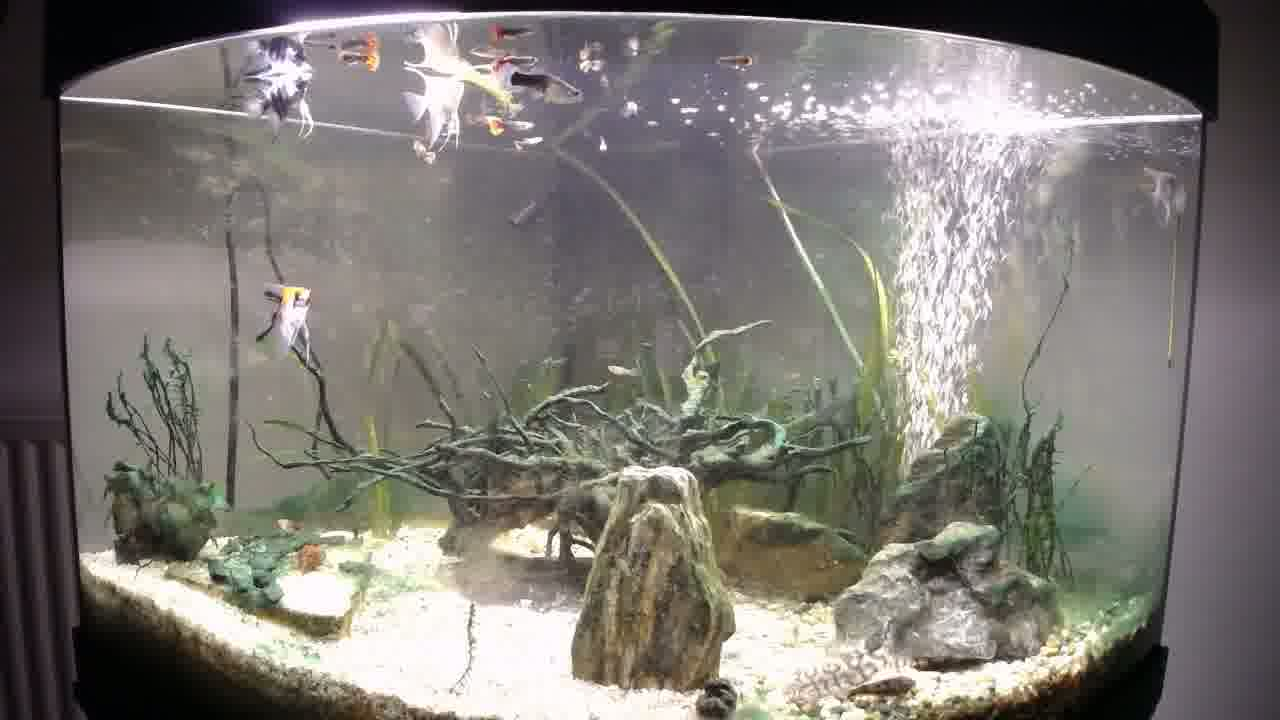Ancistrus: (286, 538, 335, 578)
Botia_Almorhae: (775, 641, 917, 712)
Corydoras_Panda: (847, 673, 918, 703)
G_Matriarche: (496, 67, 581, 105)
Pterophyllum_Scalare_BB: (239, 65, 321, 143)
Pterophyllum_Scalare_W: (1141, 166, 1186, 227)
Pterophyllum_Scalare_Y: (399, 65, 466, 153)
Pterophyllum_Scalare_YWB: (251, 279, 318, 360)
